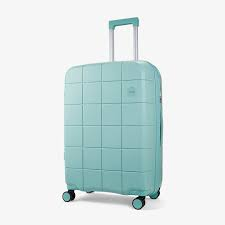suitcase: (61, 18, 165, 210)
